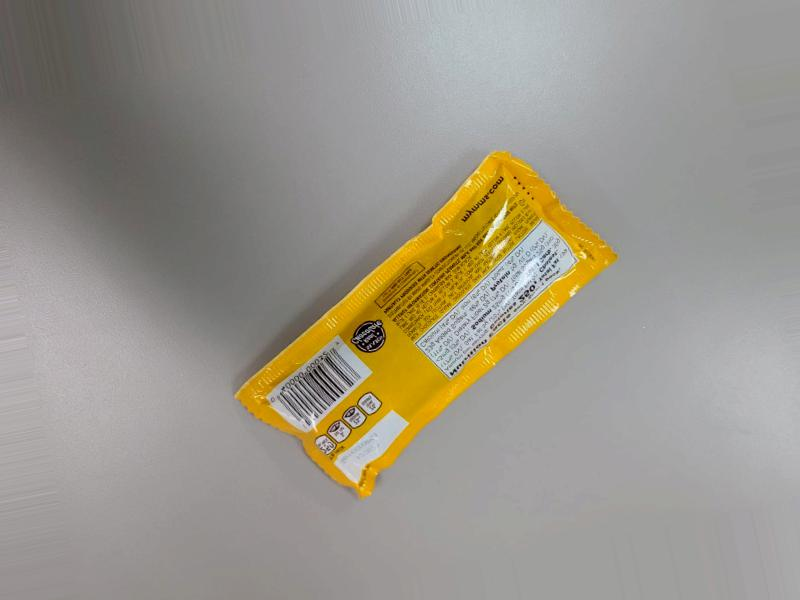m&m: (264, 146, 622, 499)
